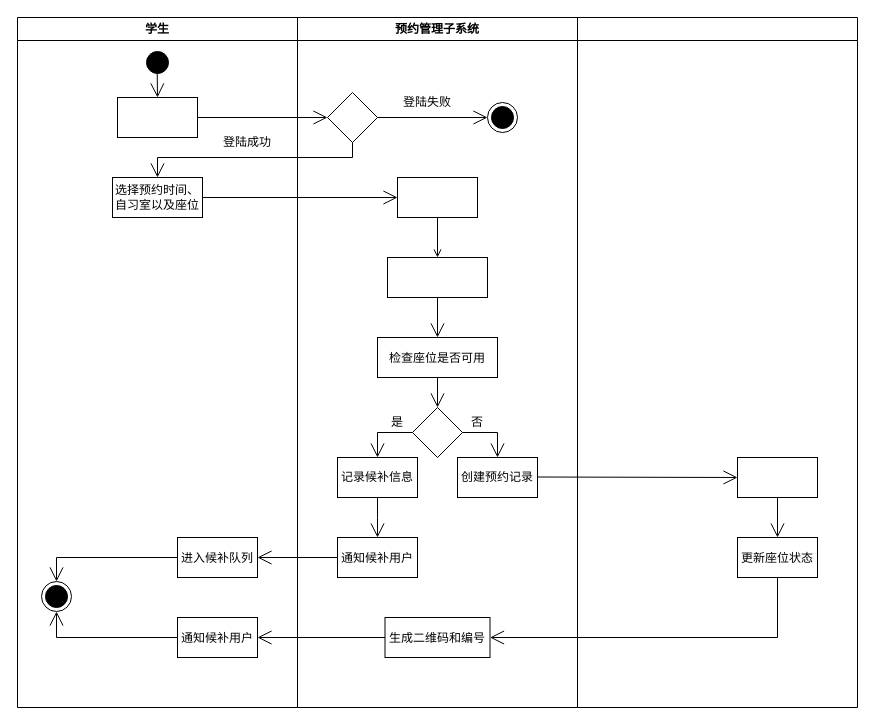
Image size: 875x725. Some labels were removed from this diagram. Each missing label, with the box of its shape:
座位管理子系统: (576, 16, 858, 708)
接受预约请求: (396, 176, 478, 218)
检验冲突与规则: (386, 256, 488, 298)
登陆验证: (116, 96, 198, 138)
锁定座位: (736, 456, 818, 498)
